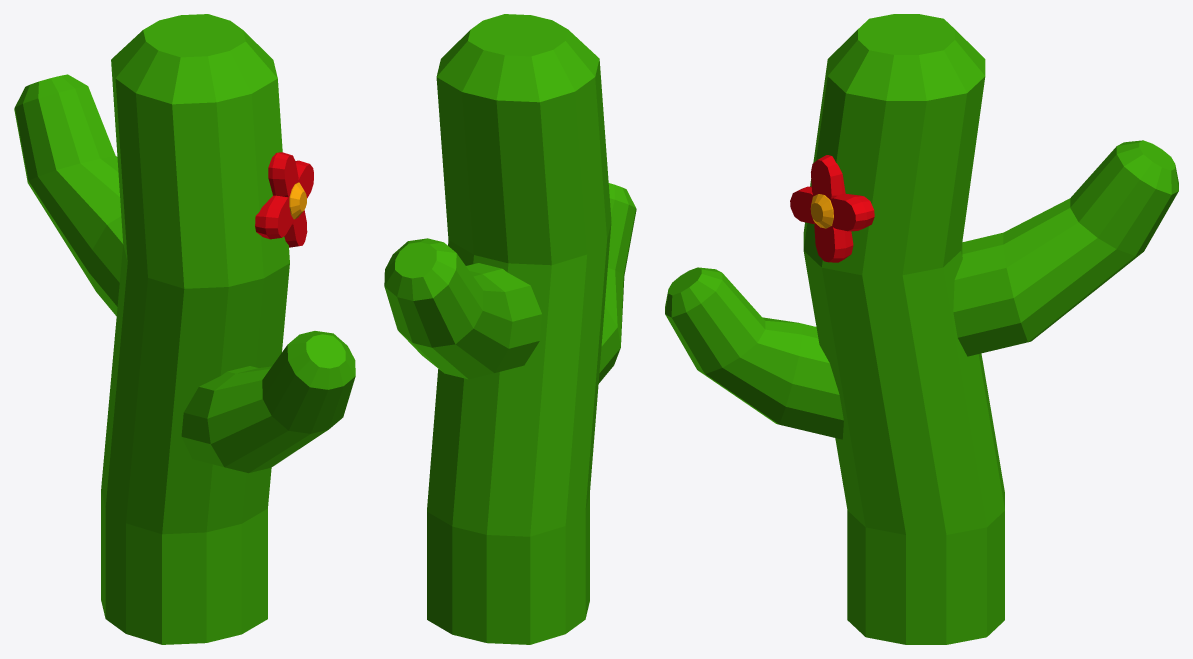
The model's file is Cactus 1.fbx.
3 renders of one model, left to right at view 1: azimuth 30°, elevation 25°; view 2: azimuth 150°, elevation 25°; view 3: azimuth 270°, elevation 25°, orthographic. The views are drawn at different scales.
Parts seen in each view (by area): view 1: Cube.047, Cube.055, Cube.056; view 2: Cube.047; view 3: Cube.047, Cube.055.
Part boxes in pixels (x1=…): Cube.047: x1=14, y1=14, x2=355, y2=644; Cube.055: x1=255, y1=152, x2=313, y2=247; Cube.056: x1=289, y1=182, x2=306, y2=219; Cube.047: x1=384, y1=14, x2=636, y2=644; Cube.047: x1=665, y1=14, x2=1178, y2=644; Cube.055: x1=790, y1=155, x2=874, y2=262.
Size of the model in its own units: 153 by 521 by 421.
